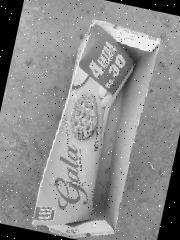paper: (30, 16, 160, 240)
